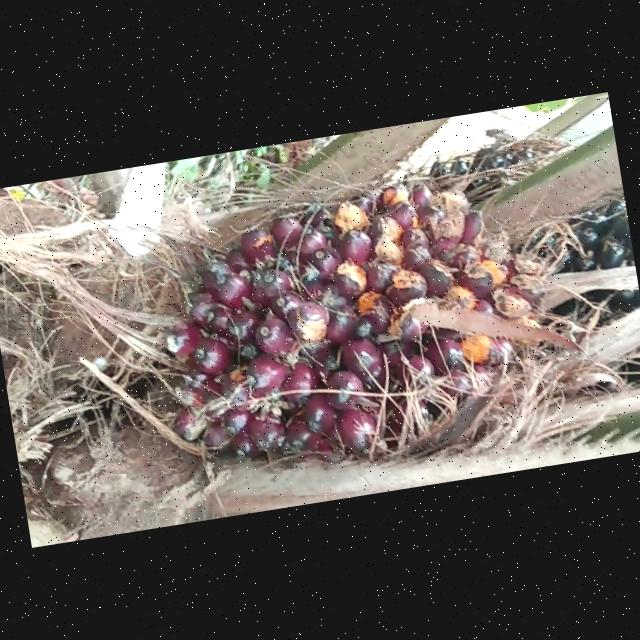Ripe: (171, 172, 623, 468)
